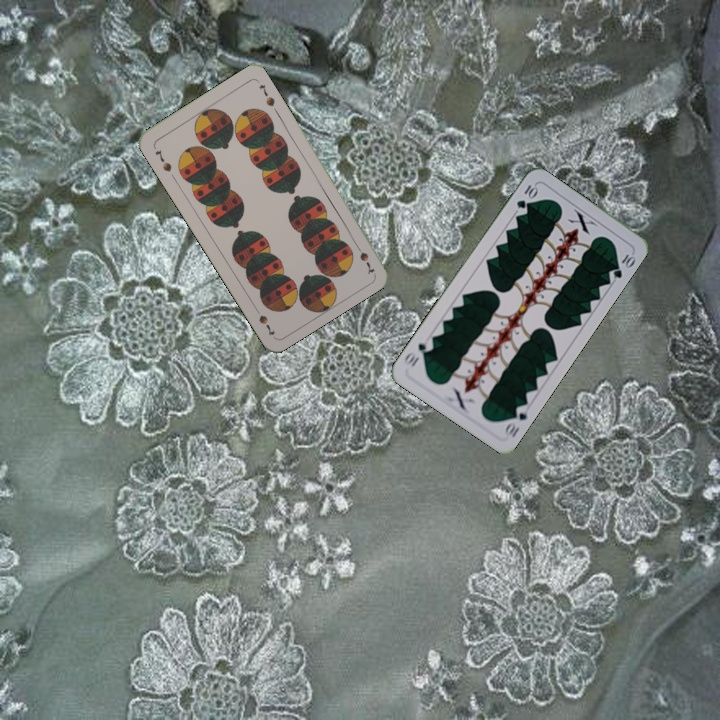G10: (501, 401, 532, 440), (512, 181, 540, 211)
S7: (351, 238, 377, 276), (151, 145, 174, 174)
